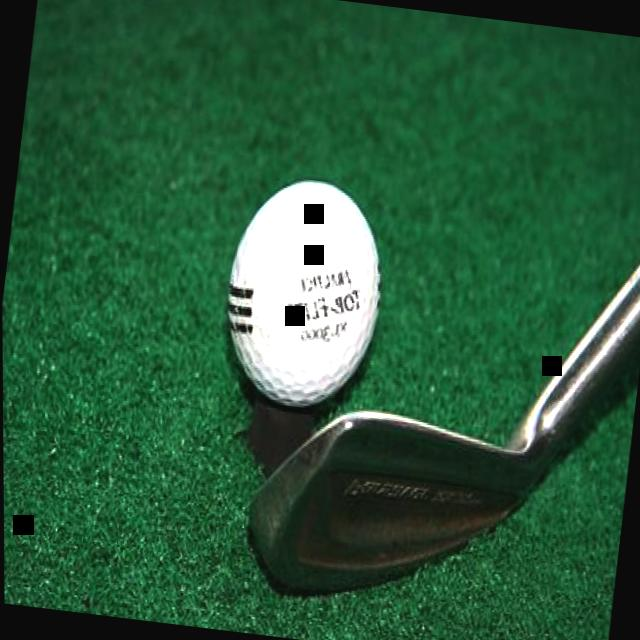golf ball: (200, 149, 409, 431)
